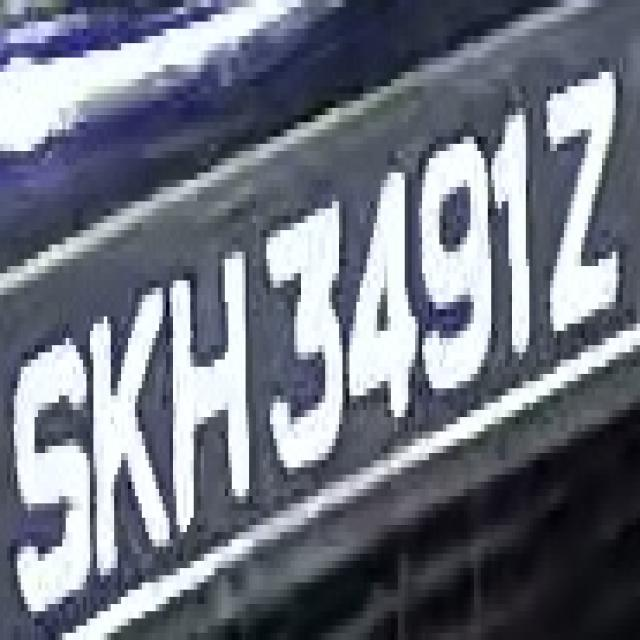1: (488, 101, 536, 381)
3: (256, 187, 349, 503)
4: (346, 166, 419, 460)
9: (408, 108, 491, 410)
H: (159, 252, 263, 539)
K: (80, 266, 166, 568)
S: (7, 309, 100, 633)
Z: (543, 58, 626, 352)
